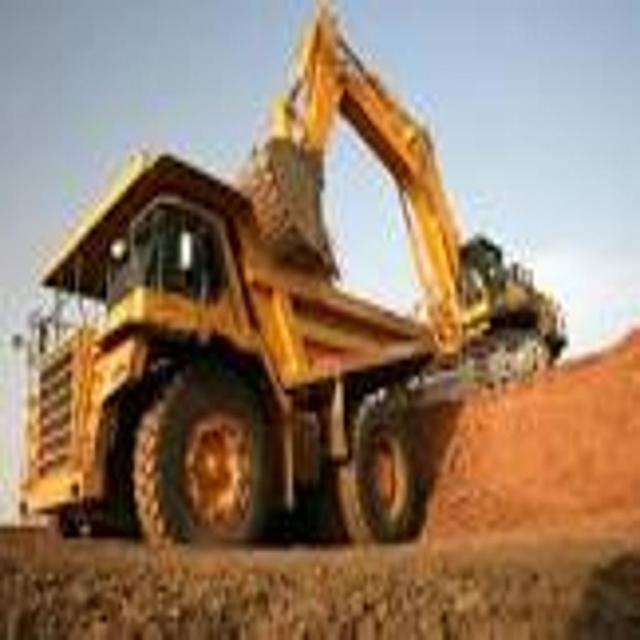dump_truck: (22, 148, 440, 567)
